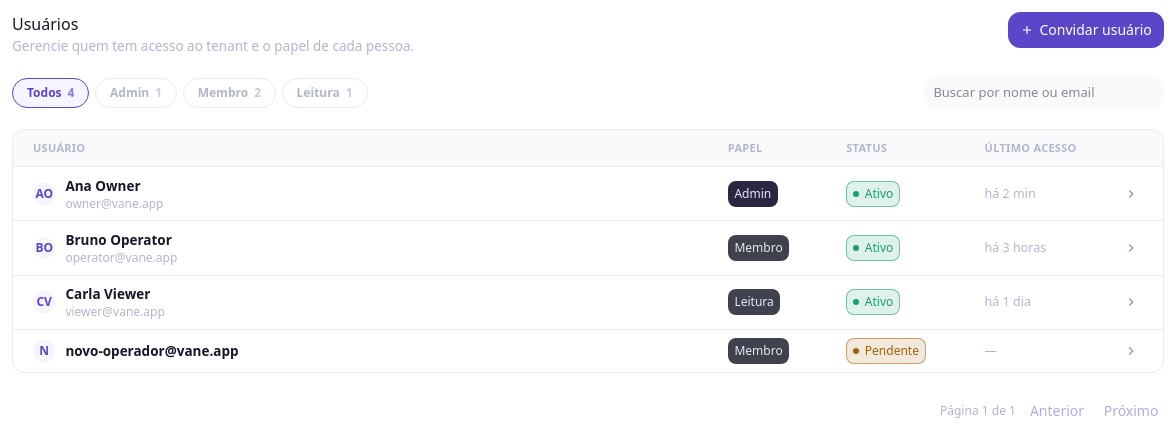
AdminsPage › filter with no results shows the empty state (USRPG-04)
Check: the text "owner@vane.app" is shown, box x1=65 y1=196 x2=164 y2=212
Type "ninguem-existe" into the field labelled "Buscar por nome ou email" at (1044, 93), box x1=924 y1=76 x2=1164 y2=109
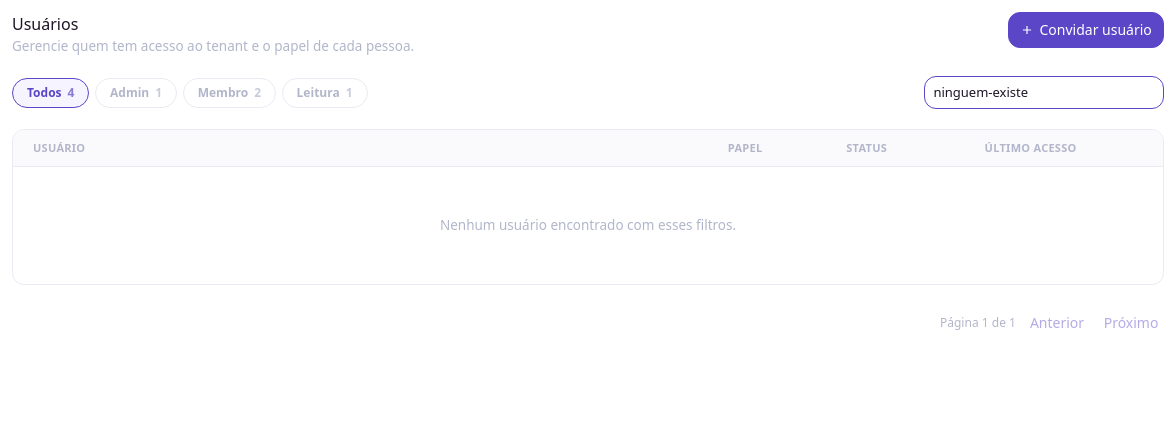
Check: the text "Nenhum usuário encontrado com esses filtros." is shown, box x1=440 y1=216 x2=736 y2=234
